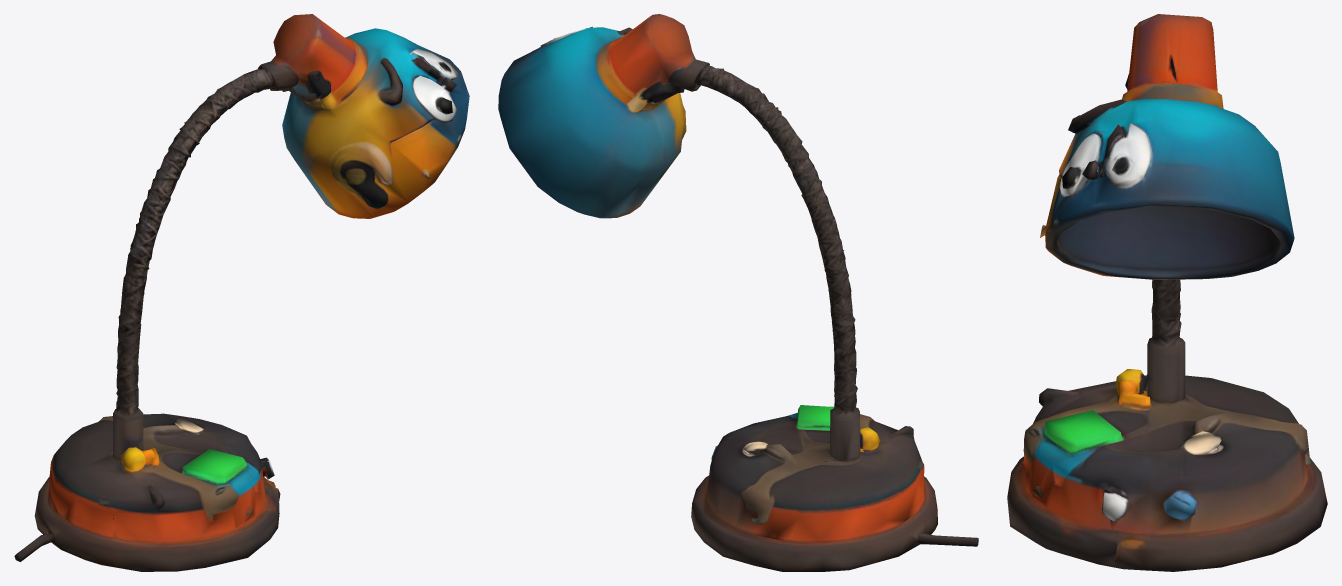
File: lamp.glb
3 views of the same model, side by side, from view 1: azimuth 30°, elevation 25°; view 2: azimuth 150°, elevation 25°; view 3: azimuth 270°, elevation 25° (orthographic). The views are drawn at different scales.
Parts seen in each view (by area): view 1: low; view 2: low; view 3: low.
Part boxes in pixels (bbox=[...]): low: bbox=[14, 14, 469, 571]; low: bbox=[498, 14, 978, 571]; low: bbox=[1007, 14, 1327, 571].
Size of the model in its own units: 0.9796 by 0.9686 by 0.4754.
1 material, 1 textured.
